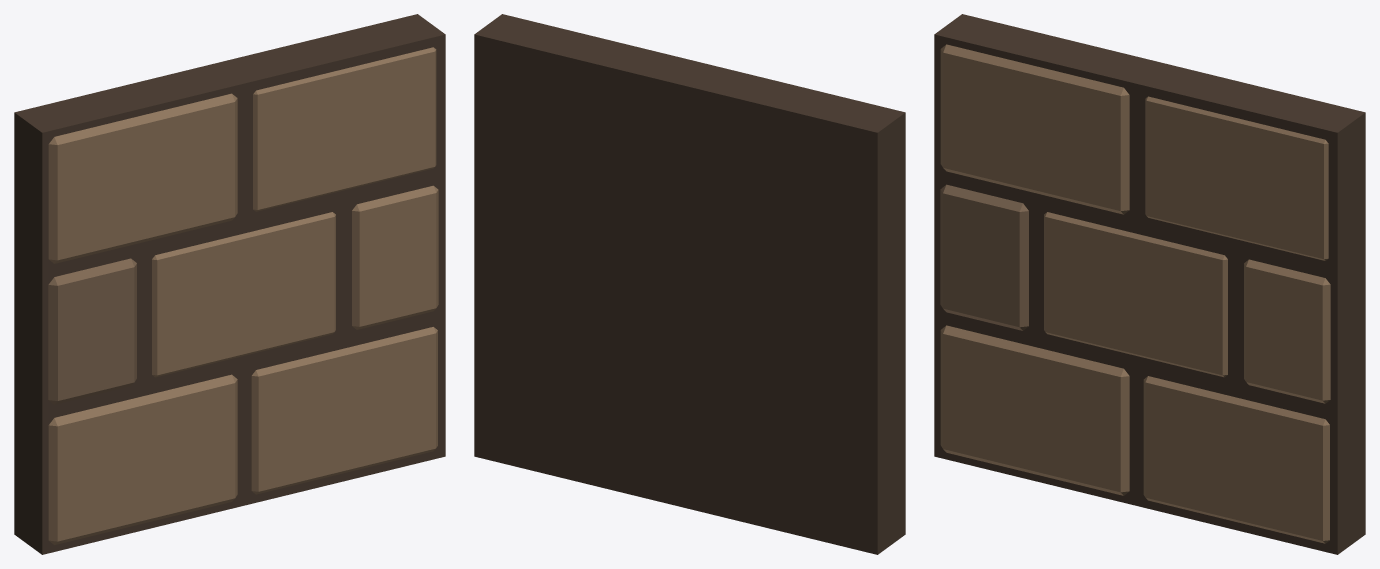
The model's file is back_wall_0.glb.
3 views of the same model, side by side, from view 1: azimuth 30°, elevation 25°; view 2: azimuth 150°, elevation 25°; view 3: azimuth 330°, elevation 25° (orthographic).
Parts seen in each view (by area): view 1: back_wall_0; view 2: back_wall_0; view 3: back_wall_0.
Boxes of the visible parts, <box> form: back_wall_0: <box>14,14,445,554</box>; back_wall_0: <box>474,14,905,554</box>; back_wall_0: <box>934,14,1365,554</box>.
Bounding box in the file's own units: 1 × 1 × 0.1348.
